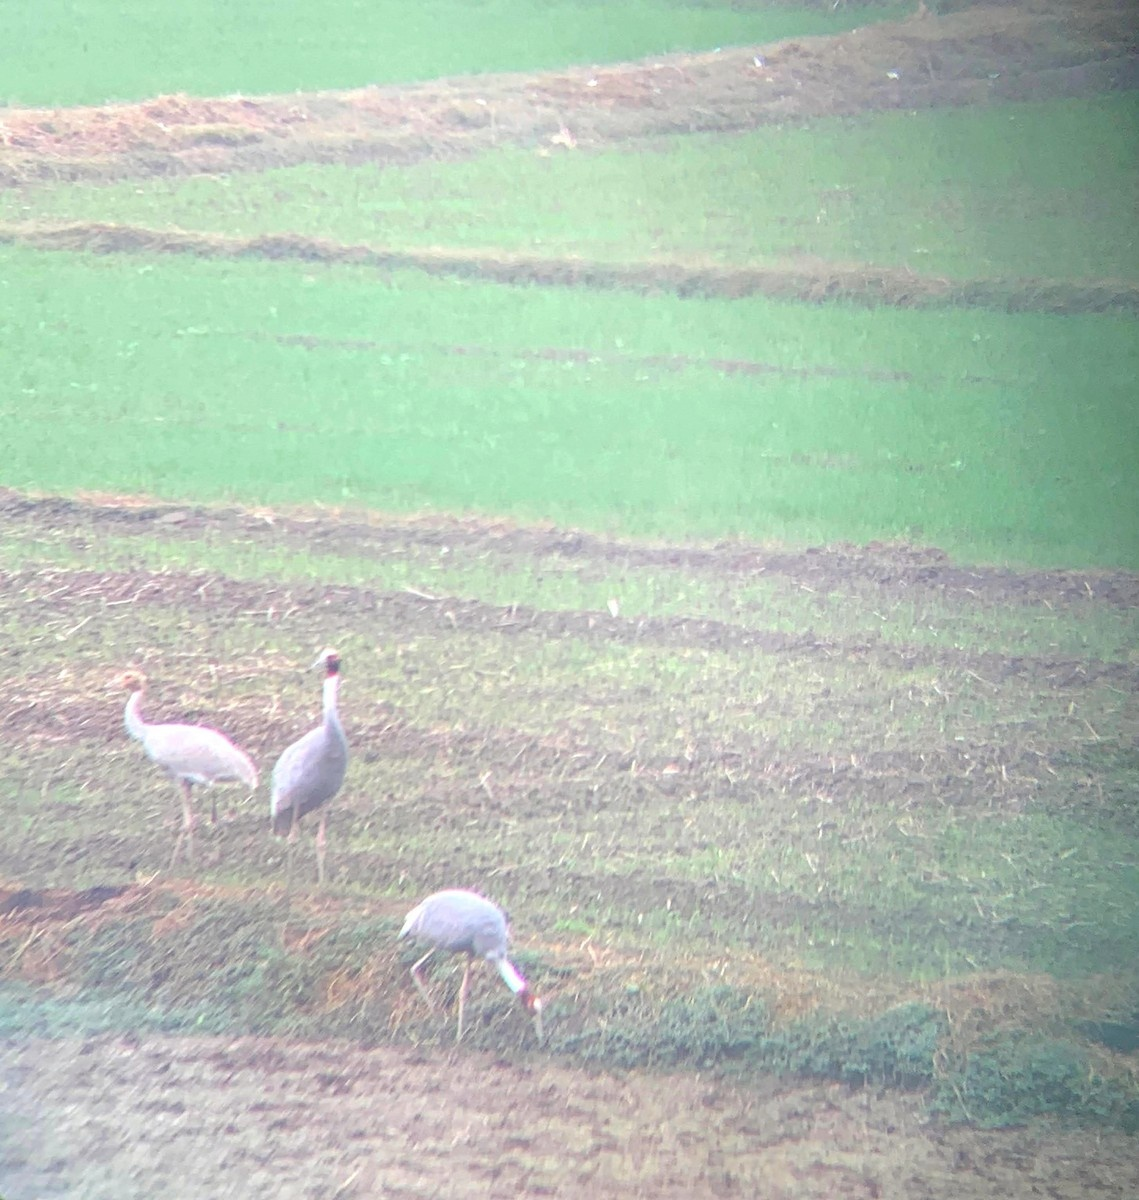crane: (392, 880, 568, 1058), (98, 670, 265, 851), (283, 643, 379, 900)
